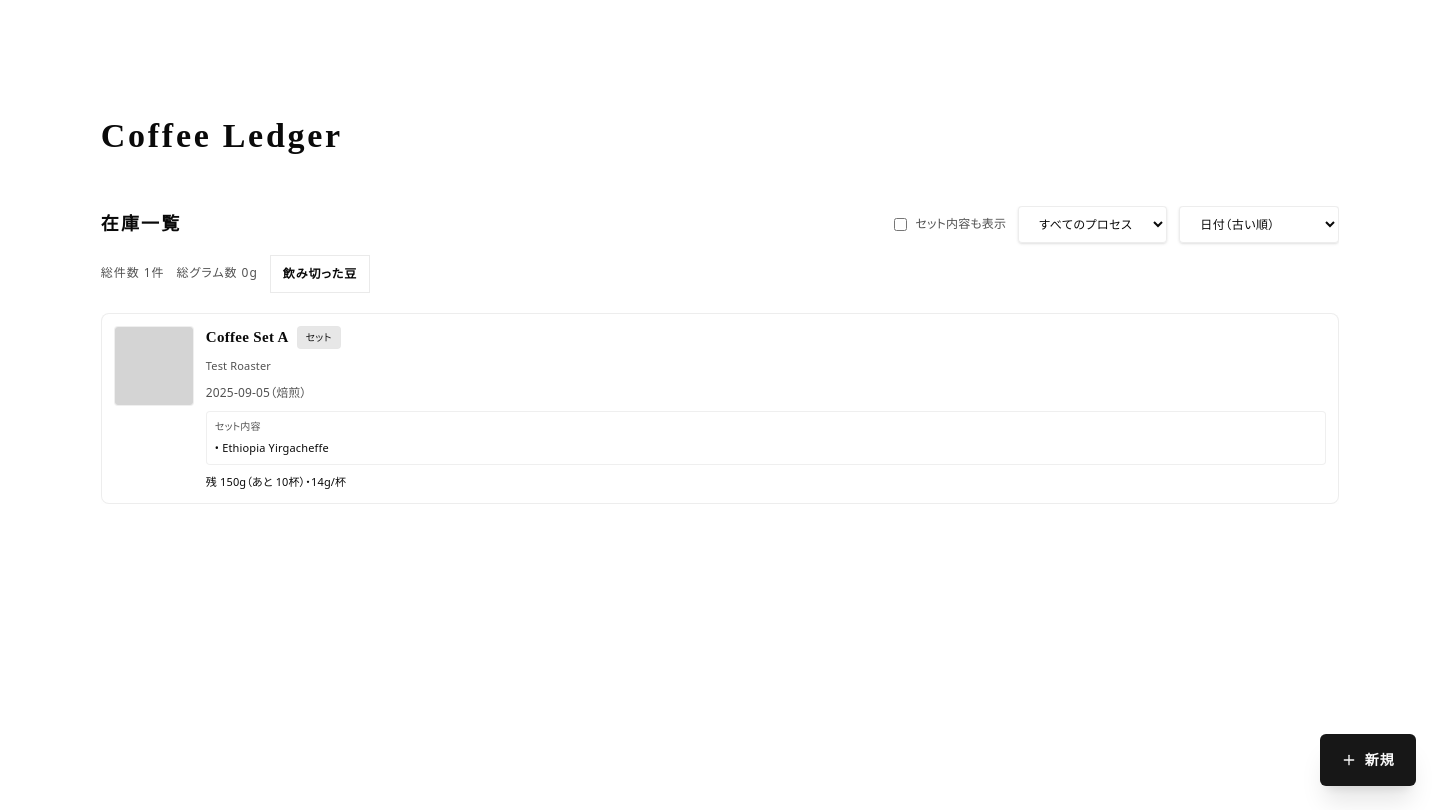
Test case: HomePage › Parent Bag Filtering › should display parent name for child bags when filter is enabled
Expected: the heading "Coffee Set A" is shown, [206, 327, 289, 348]
Note: Enable child bag display
What coordinates should you click on to do the following:
click the checkbox labelled "セット内容も表示"
I would click on:
 (901, 224)
Its box is [894, 218, 908, 231].
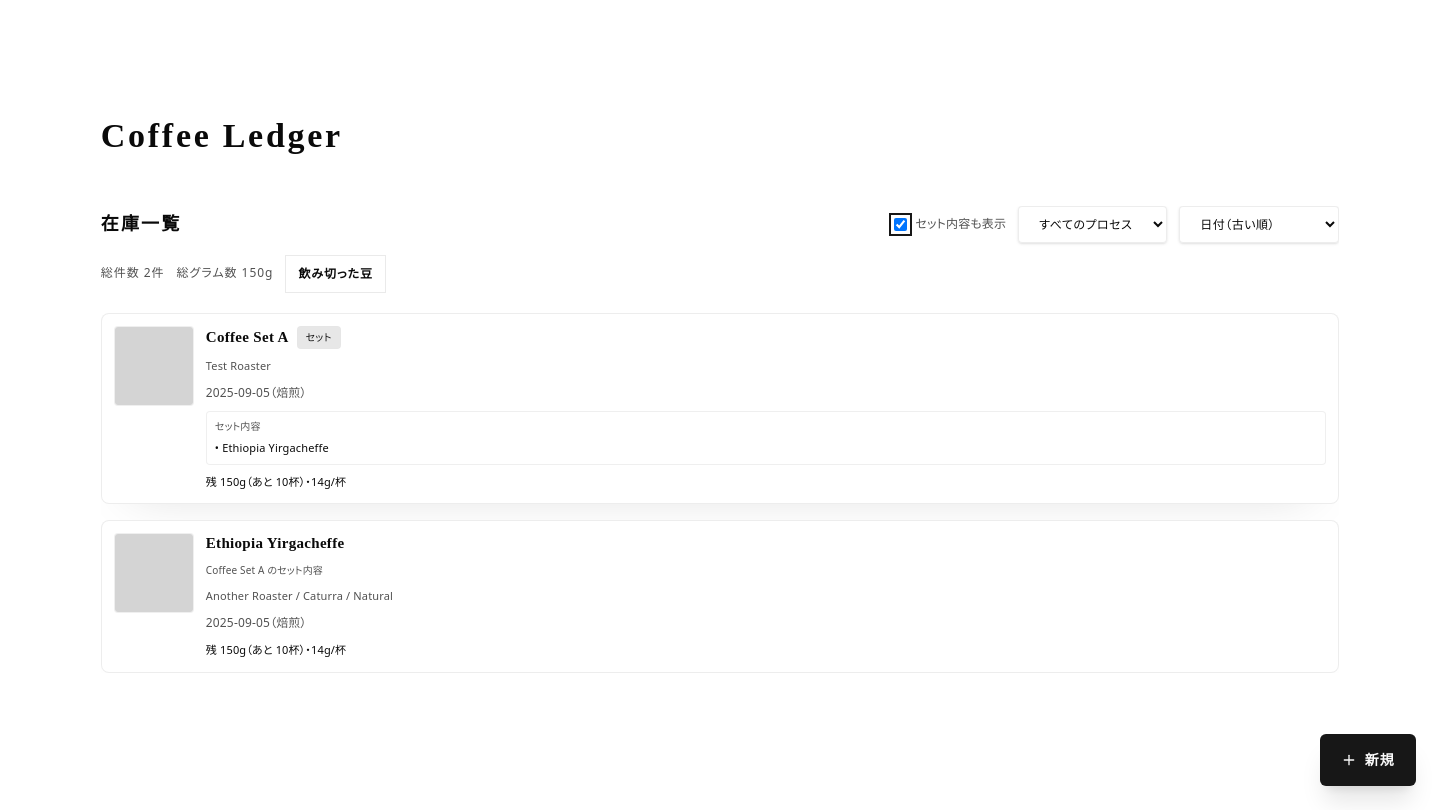
Now the heading "Ethiopia Yirgacheffe" is shown, box [206, 533, 344, 554]
Now the text "Coffee Set A のセット内容" is shown, box [206, 563, 323, 577]
